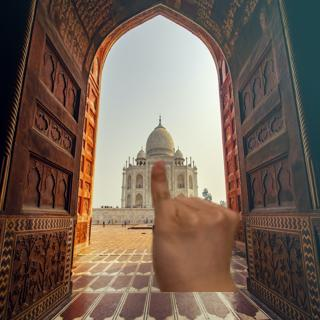FINE: (147, 160, 244, 286)
